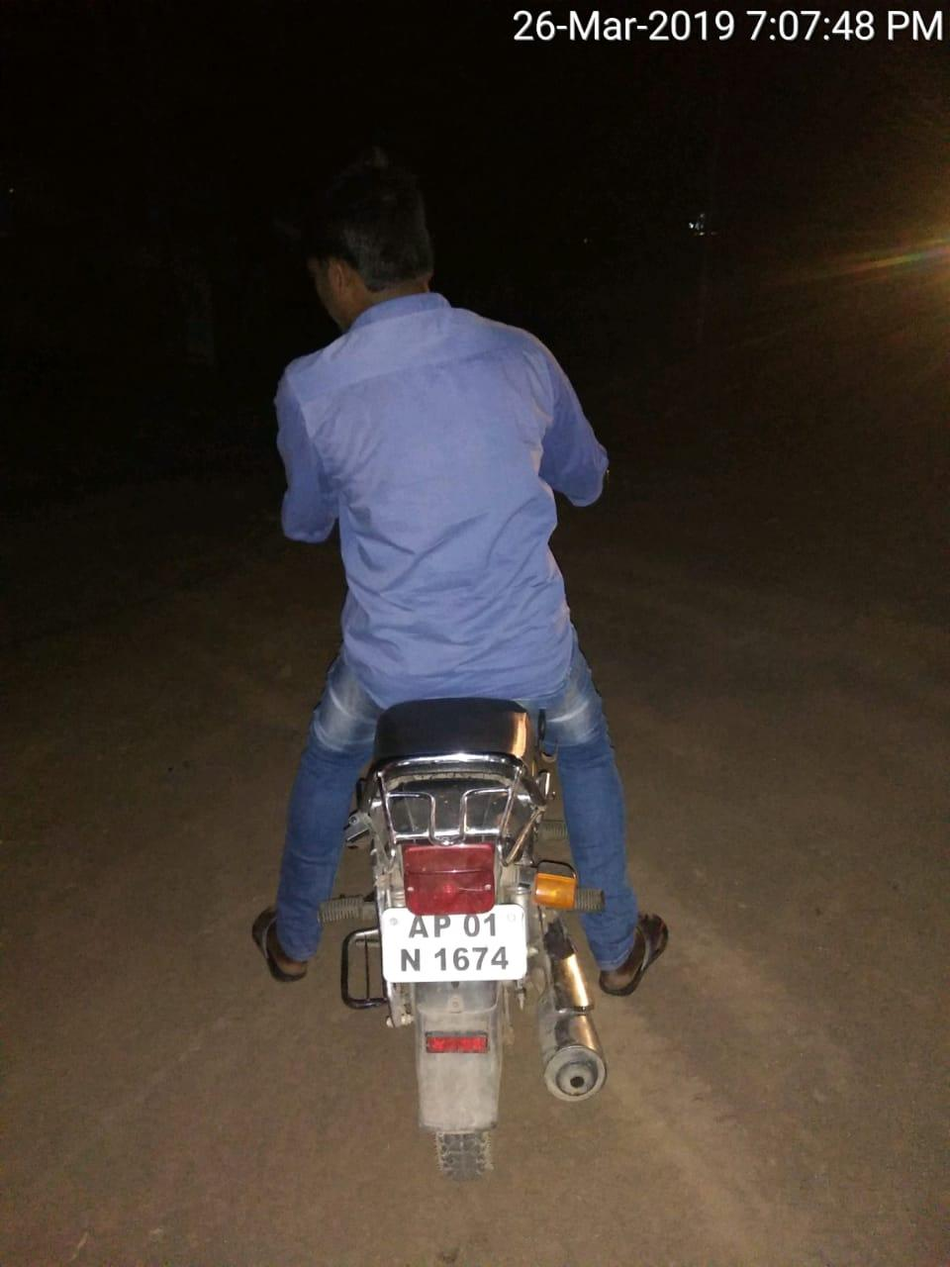plate: (342, 876, 551, 1007)
